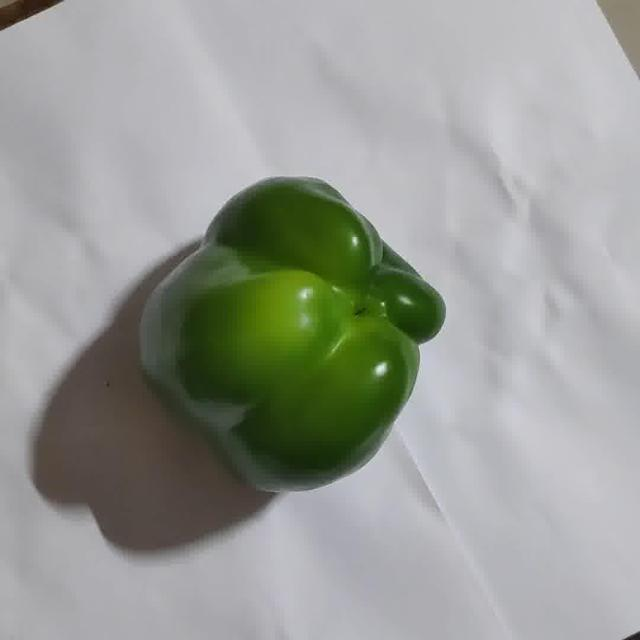Bell Pepper: (141, 178, 444, 492)
